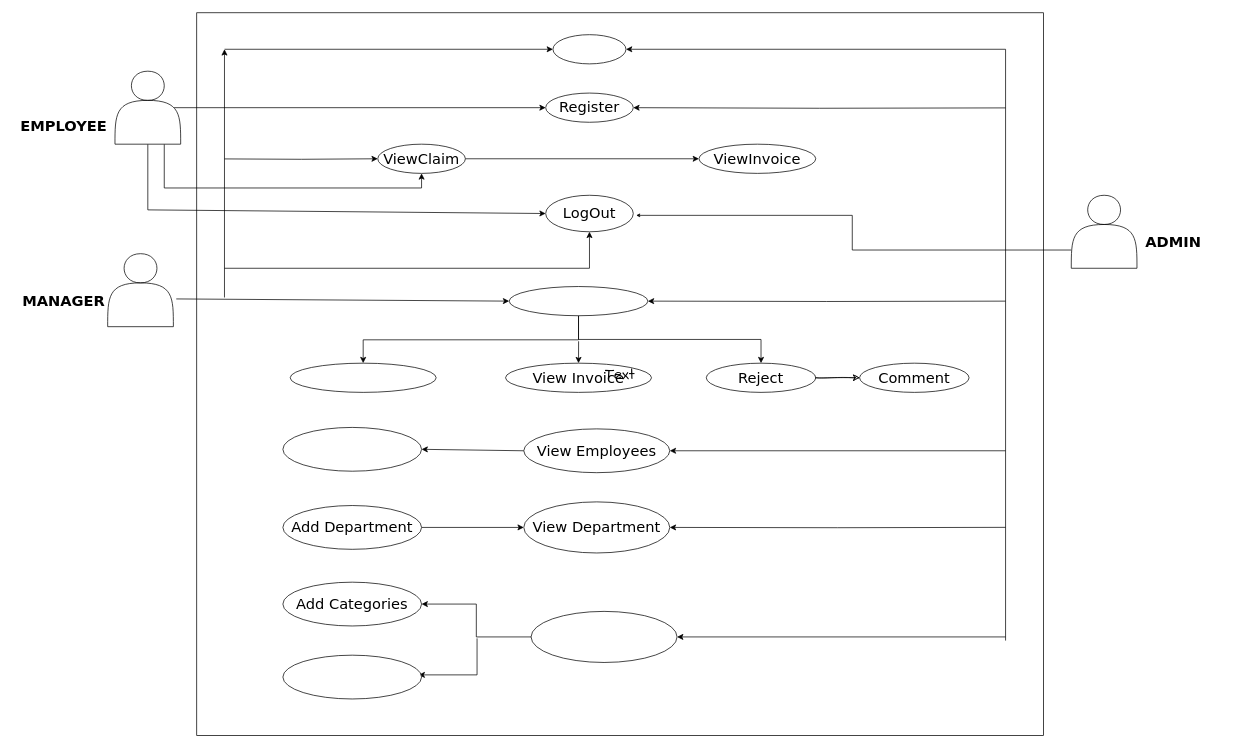
Image size: 1237x748. Some labels were removed from this diagram. The shapes that lost their labels are listed below. From the top down, each one's centre as x and y in pixels, then its label:
At (x=589, y=49): "Login".
At (x=578, y=301): "HandleClaim".
At (x=362, y=377): "Accept".
At (x=352, y=449): "Assign Employee".
At (x=603, y=636): "View Categories".
At (x=352, y=676): "Delete Category".
